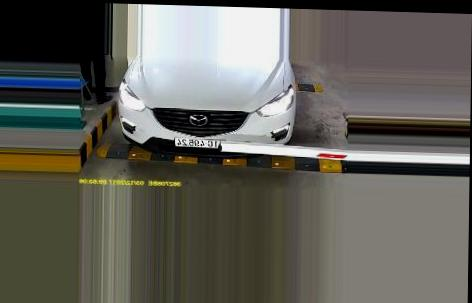License_Plate: (173, 134, 229, 152)
